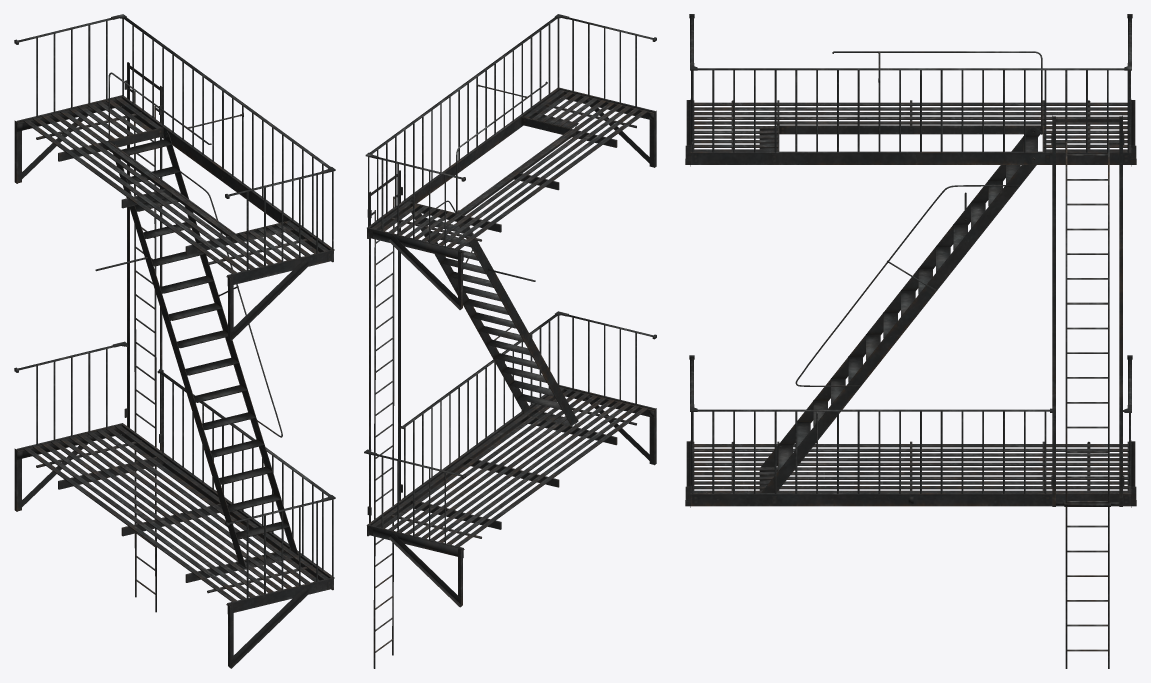
Rendered from fire_escape.glb.
3 views of the same model, side by side, from view 1: azimuth 30°, elevation 25°; view 2: azimuth 150°, elevation 25°; view 3: azimuth 270°, elevation 25° (orthographic). The views are drawn at different scales.
Parts seen in each view (by area): view 1: fire_escape; view 2: fire_escape; view 3: fire_escape.
Boxes of the visible parts, left/top/right/bottom form: fire_escape: left=14, top=14, right=335, bottom=668; fire_escape: left=364, top=14, right=656, bottom=668; fire_escape: left=685, top=14, right=1136, bottom=668.
Bounding box in the file's own units: 1.07 × 5.26 × 3.59.
2 materials, 2 textured.
